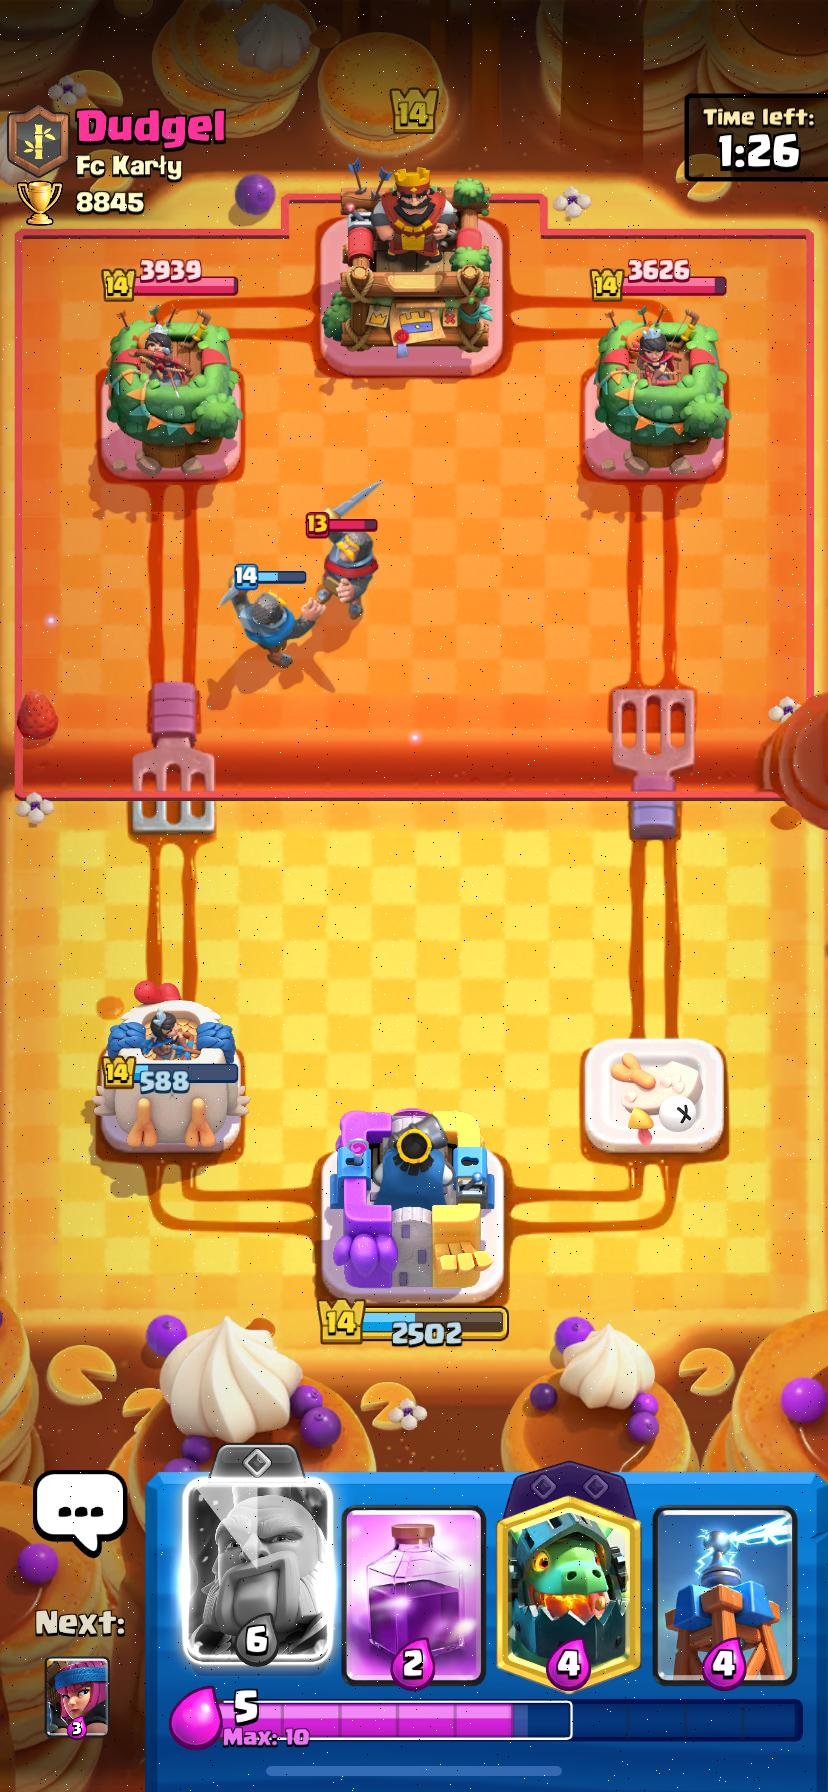EKingTower: (321, 168, 493, 369)
EKnight: (308, 517, 377, 619)
EnemyPrincessTower: (105, 309, 242, 475), (594, 309, 730, 475)
OKnight: (222, 565, 325, 667)
OwnKingTower: (321, 1109, 503, 1306)
OwnPrincessTower: (93, 983, 248, 1153)
TowerDown: (583, 1037, 725, 1155)
